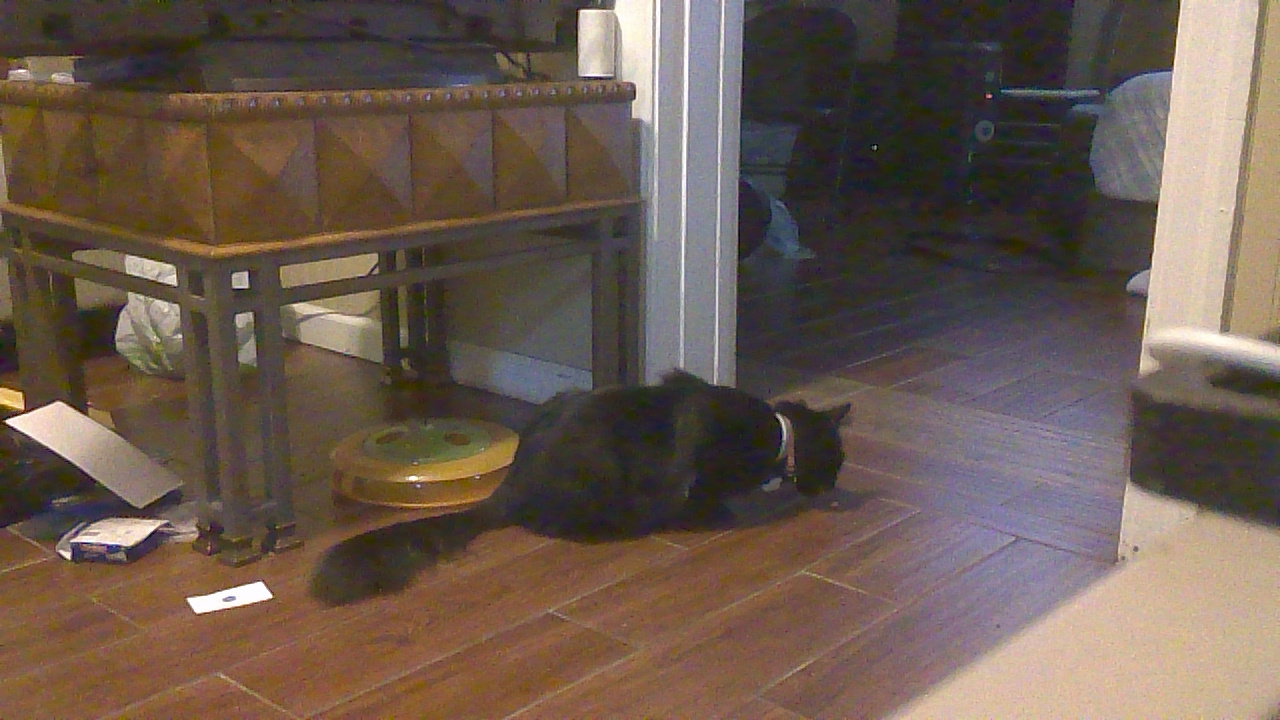cat: (311, 363, 856, 615)
